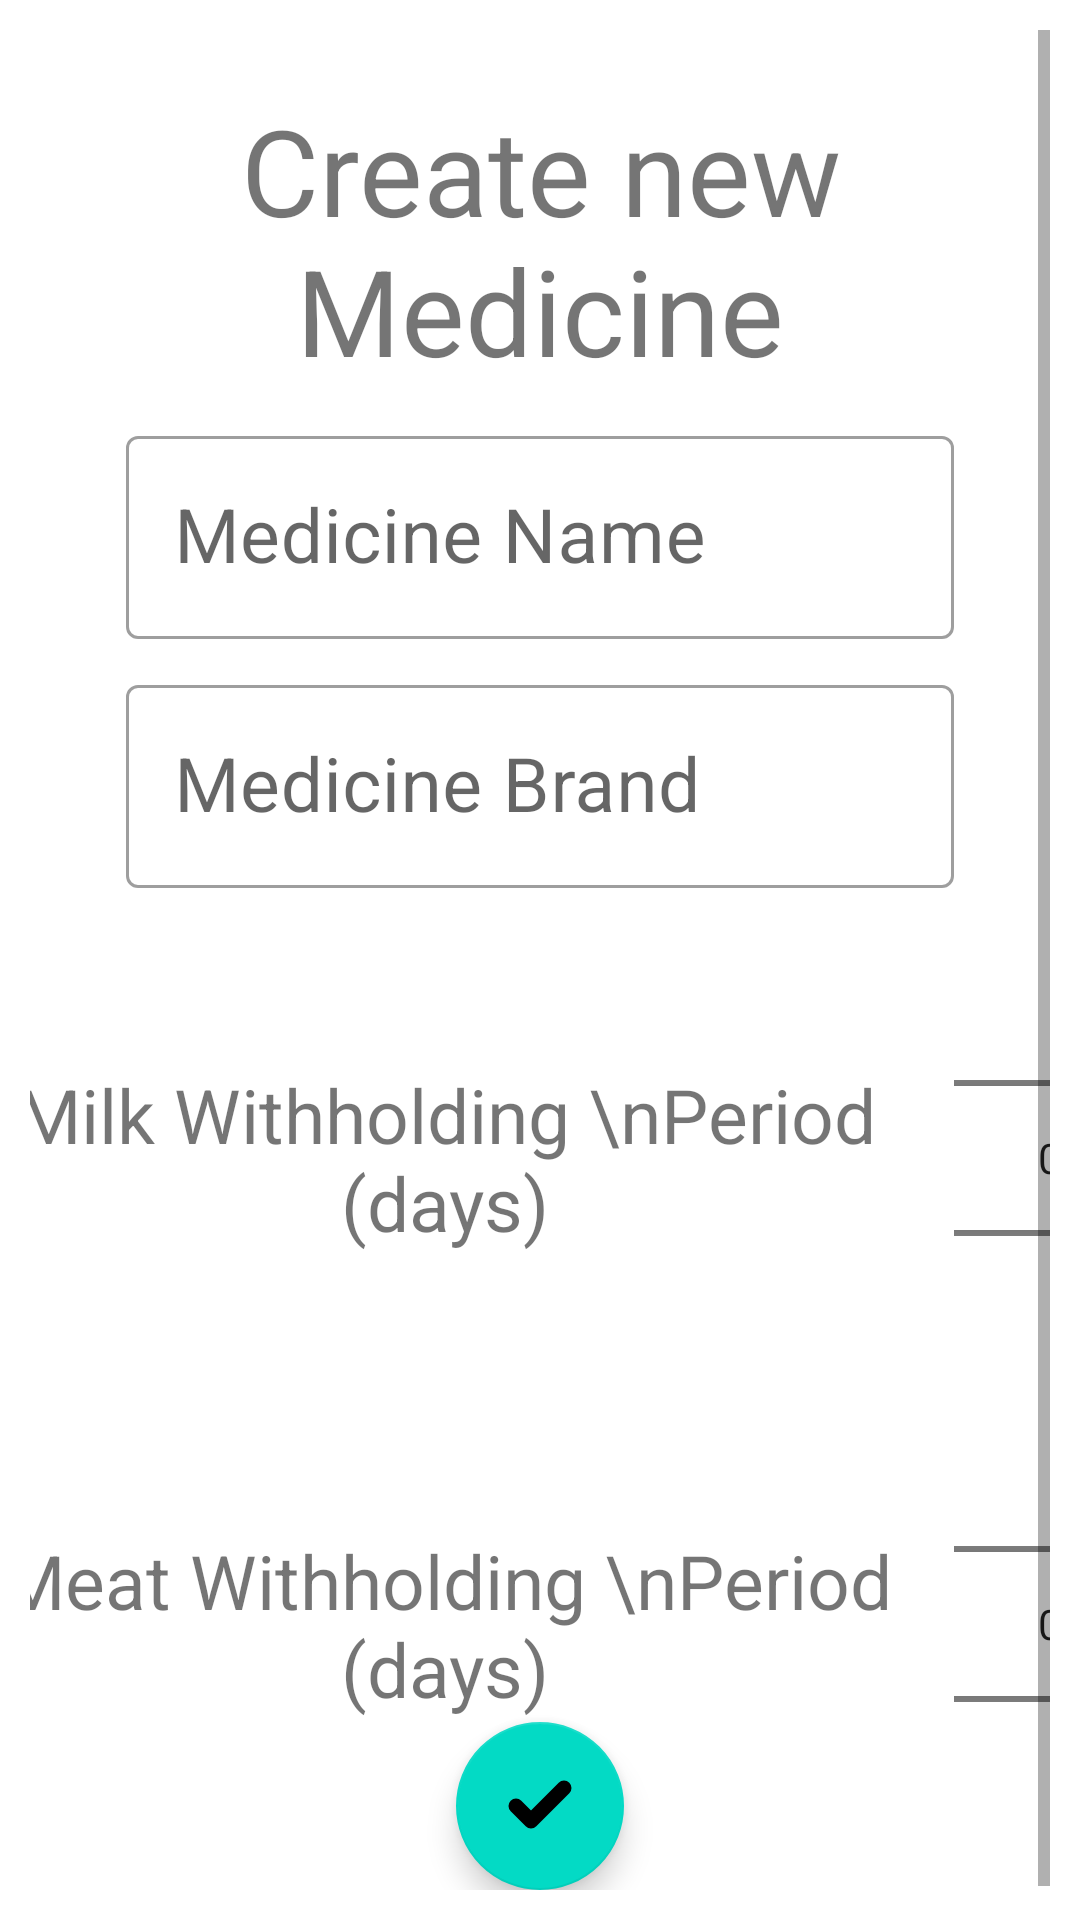

Named icons in this screenshot (1080 x 1920) and their bounding boxes, (x1, y1, x2, y2):
check: (456, 1722, 624, 1890)
